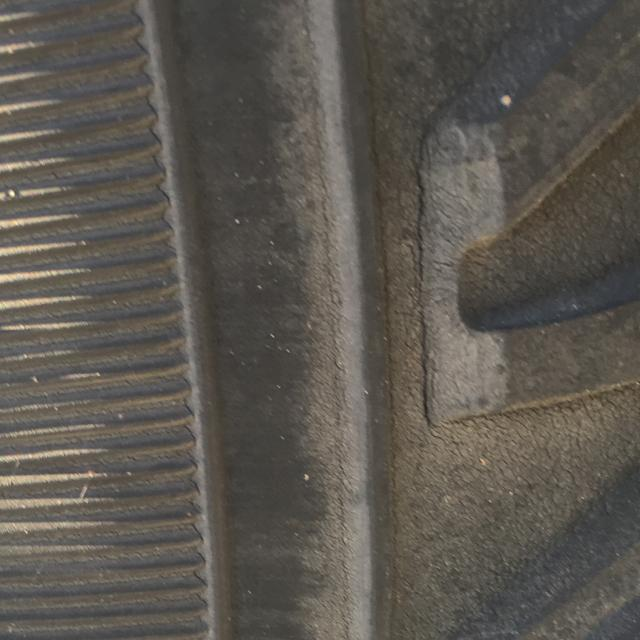Cracks: (391, 104, 464, 446)
Non-defective: (0, 0, 296, 640)
